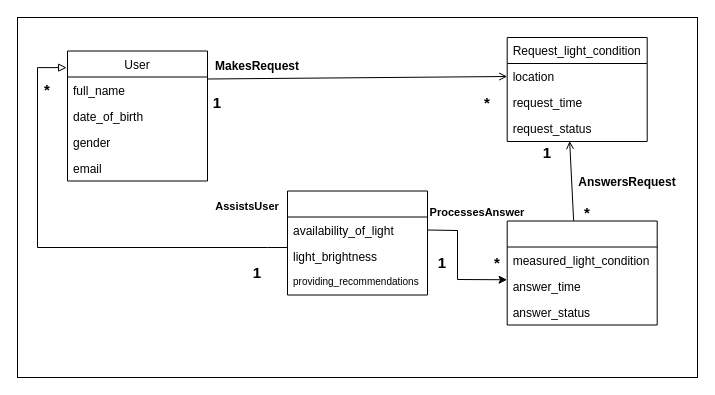
This 715x395 diagram has some shape labels left out. Each missing label, with the box of its shape:
Answer_on_request: (506, 220, 657, 325)
SafeLight_Bot: (286, 190, 428, 295)
